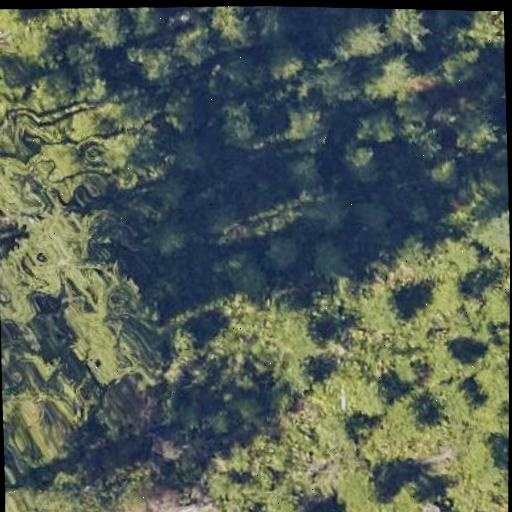tree-top: (59, 259, 170, 392), (1, 366, 93, 466), (337, 17, 399, 87), (452, 423, 509, 485), (359, 49, 418, 101), (337, 457, 388, 512), (206, 5, 262, 55), (360, 278, 412, 331), (212, 98, 264, 151), (342, 368, 396, 419), (47, 5, 131, 36), (336, 10, 388, 59), (431, 335, 479, 387), (382, 390, 436, 436), (159, 90, 206, 142), (451, 101, 495, 156), (419, 271, 468, 319), (137, 43, 182, 92), (258, 227, 305, 273), (279, 99, 327, 144), (384, 9, 433, 51), (226, 252, 267, 302), (287, 149, 326, 197), (471, 353, 509, 402), (286, 309, 328, 353), (171, 25, 212, 69), (261, 45, 305, 85), (457, 10, 504, 47), (357, 105, 396, 148), (257, 483, 310, 512), (435, 51, 474, 90), (340, 140, 379, 177), (421, 154, 460, 188), (485, 280, 510, 323), (0, 8, 29, 35)
